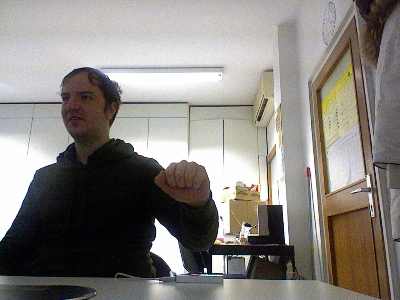石头: (153, 158, 211, 205)
